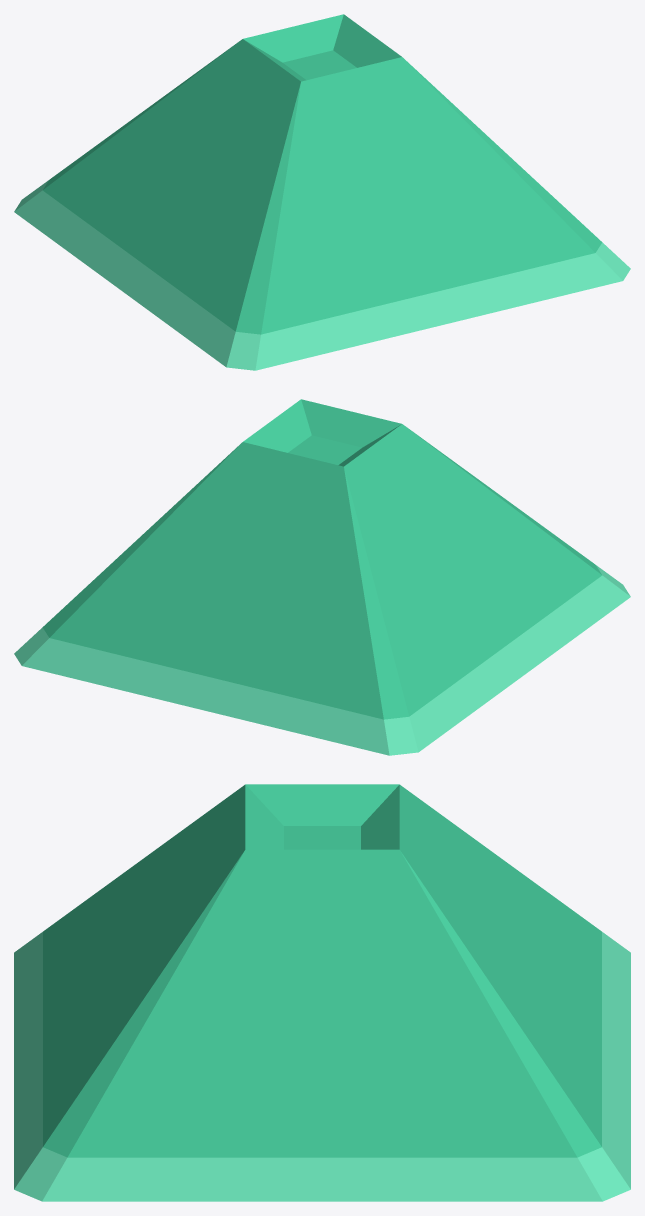
File: roofPoint.obj
The picture shows the model from 3 angles, top to bottom: view 1: azimuth 30°, elevation 25°; view 2: azimuth 150°, elevation 25°; view 3: azimuth 270°, elevation 25°; orthographic projection. The views are drawn at different scales.
Visible parts, largest first — view 1: roofPoint; view 2: roofPoint; view 3: roofPoint.
Part boxes in pixels (<box>): roofPoint: <box>14,14,630,370</box>; roofPoint: <box>14,399,630,755</box>; roofPoint: <box>14,784,630,1201</box>.
Bounding box in the file's own units: 1.1 × 0.5 × 1.1.
